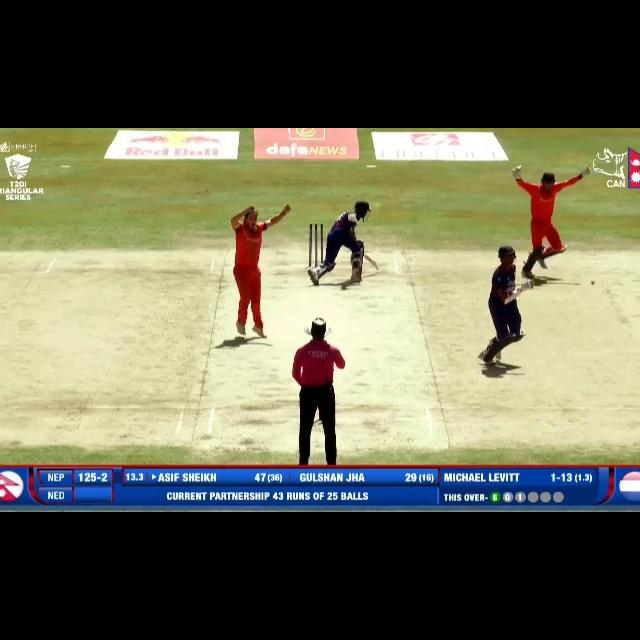umpire: (275, 311, 358, 468)
